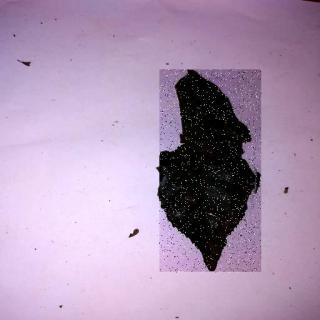Anthracnose: (161, 71, 263, 274)
